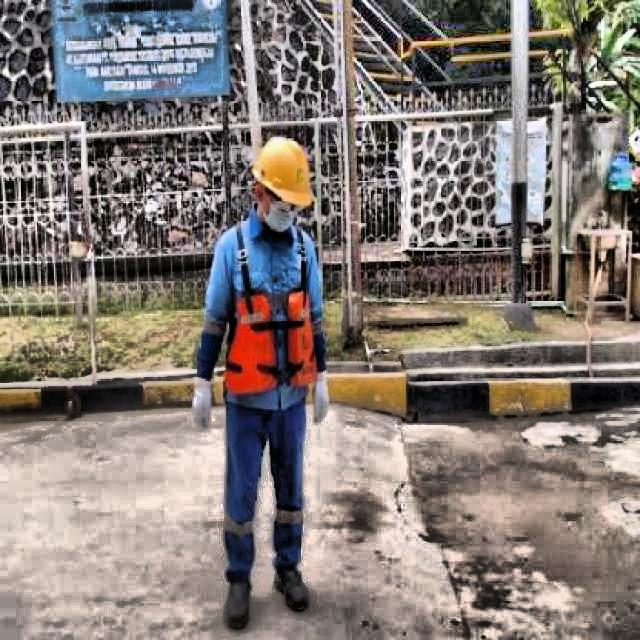safety_helmet: (252, 135, 318, 208)
safety_jacket: (214, 226, 320, 399)
